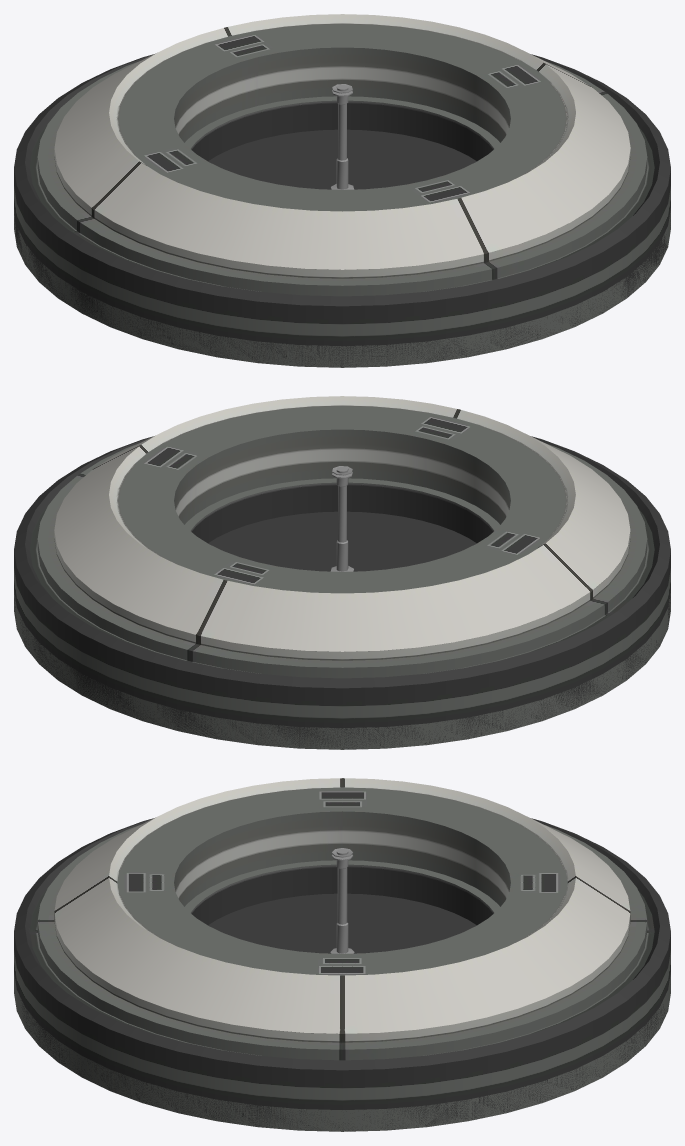
Rendered from laser_receiver.glb.
3 views of the same model, one above another, from view 1: azimuth 30°, elevation 25°; view 2: azimuth 150°, elevation 25°; view 3: azimuth 270°, elevation 25° (orthographic).
Visible parts, largest first — view 1: EDITOR_laserrecw; view 2: EDITOR_laserrecw; view 3: EDITOR_laserrecw.
Boxes of the visible parts, x1,y1,x2,y2 form: EDITOR_laserrecw: (14,14,670,367); EDITOR_laserrecw: (14,396,670,749); EDITOR_laserrecw: (14,778,670,1131).
Size of the model in its own units: 0.6861 by 0.1633 by 0.6861.
Materials: 1 (1 with a texture image).
